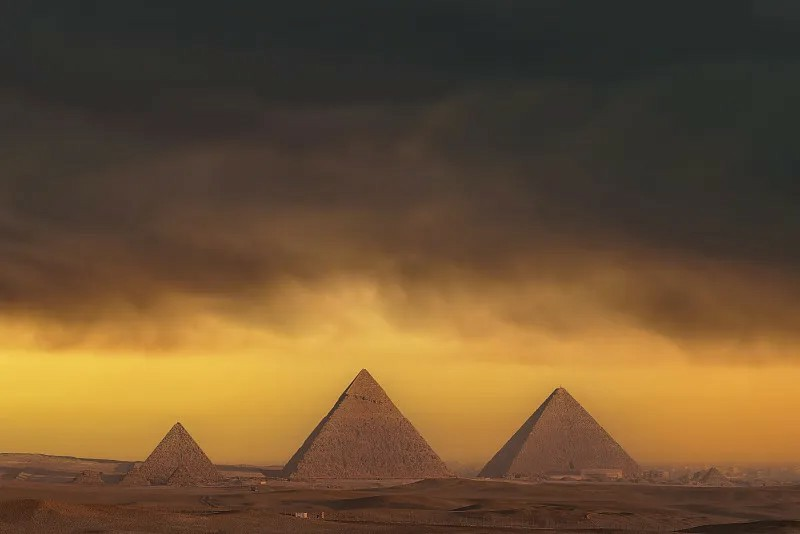Pyramid: (283, 368, 452, 475), (480, 389, 647, 482), (141, 421, 225, 482), (117, 465, 153, 486), (166, 464, 202, 485), (73, 466, 104, 485)
